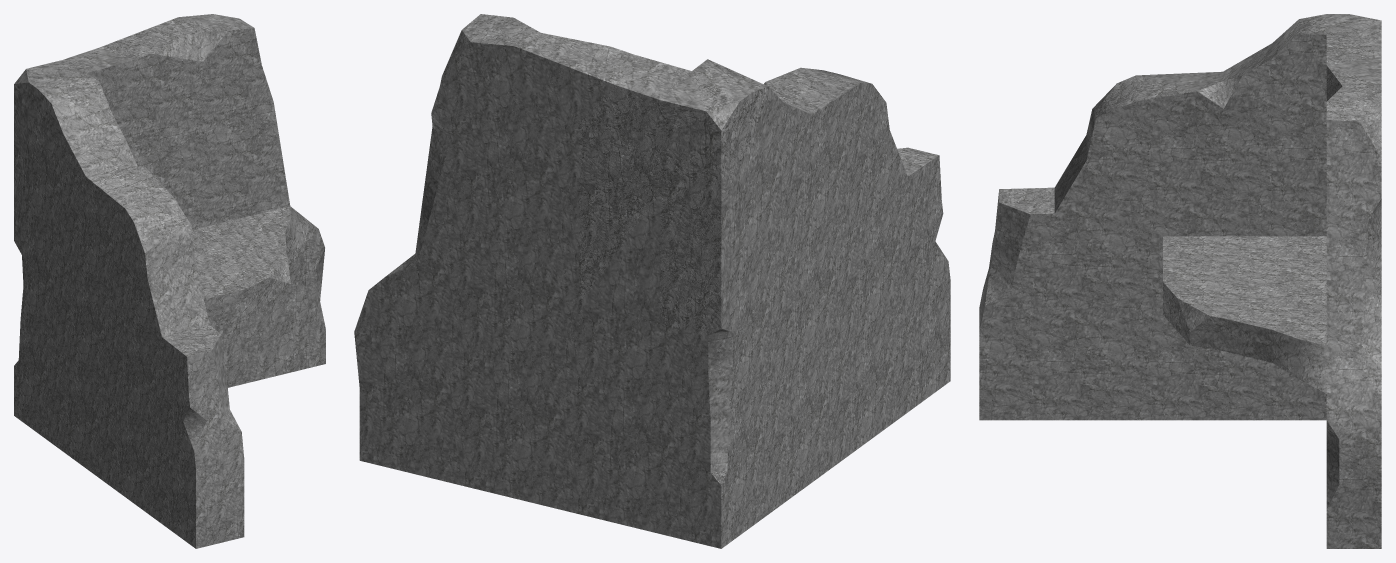
Rendered from materials_3_building_9.fbx.
3 renders of one model, left to right at view 1: azimuth 30°, elevation 25°; view 2: azimuth 150°, elevation 25°; view 3: azimuth 270°, elevation 25°, orthographic. The views are drawn at different scales.
Visible parts, largest first — view 1: materials_3_building_9; view 2: materials_3_building_9; view 3: materials_3_building_9.
Boxes of the visible parts, x1,y1,x2,y2 form: materials_3_building_9: (14,14,325,548); materials_3_building_9: (354,14,950,548); materials_3_building_9: (979,14,1381,548).
Bounding box in the file's own units: 580 × 683 × 628.
